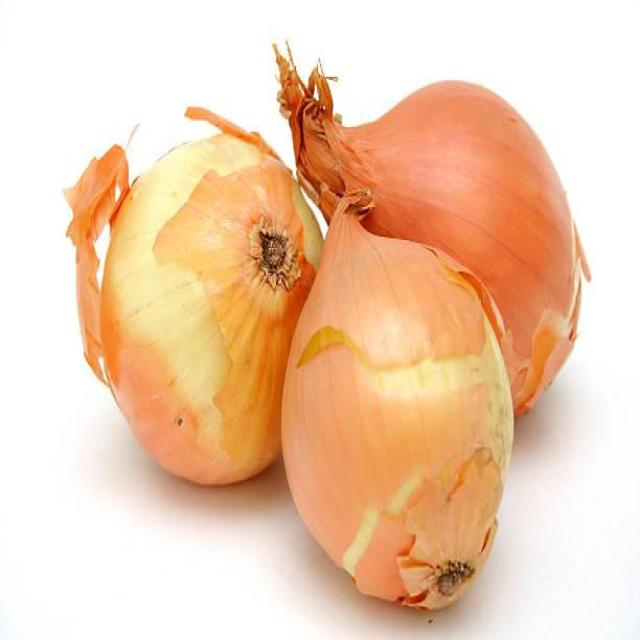Onion: (279, 56, 590, 414), (281, 199, 512, 609), (100, 113, 322, 483)
